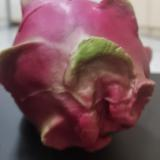pitaya: (1, 1, 154, 149)
